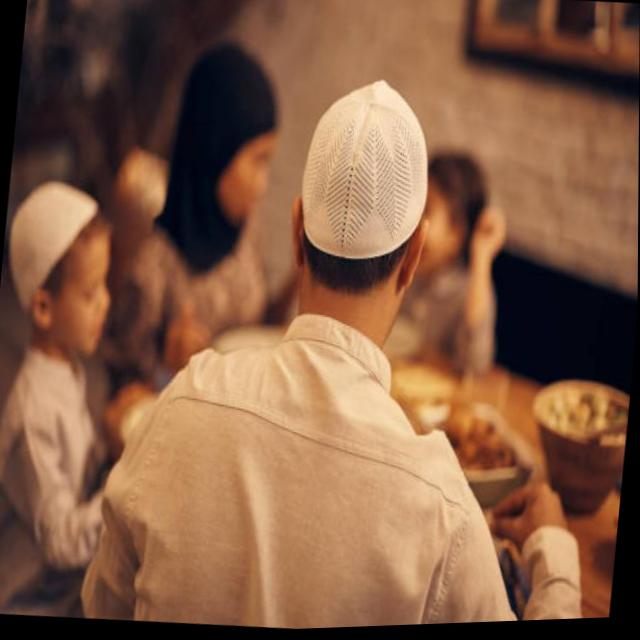no helmet: (277, 72, 448, 360)
